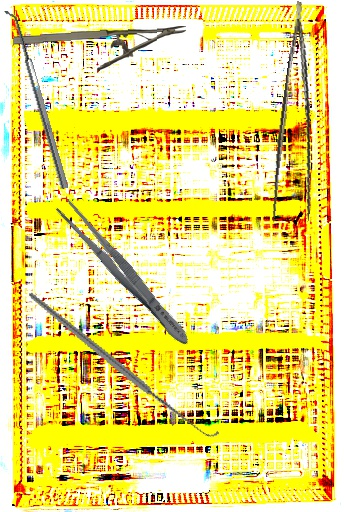Dressing Forceps: (51, 194, 197, 352)
Hook Surgical: (28, 246, 220, 482)
Needle Holder: (12, 25, 188, 74)
Spatula Surgical: (2, 7, 69, 192)
Tissue Forceps: (265, 1, 339, 231)
